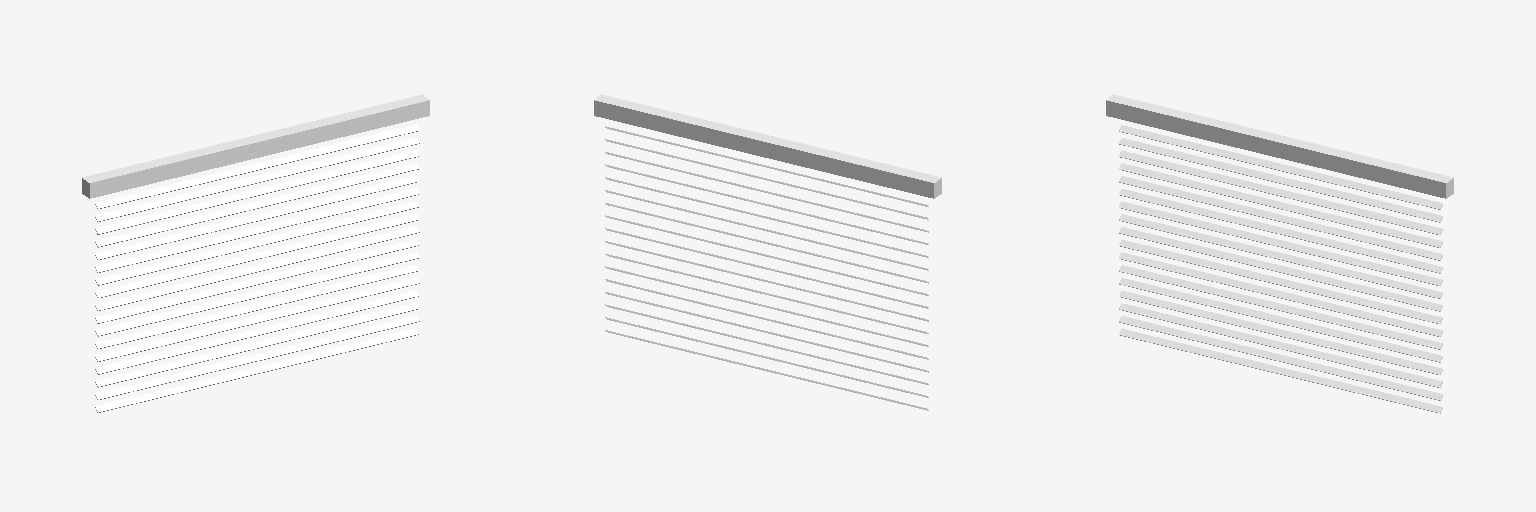
Rendered from tapparella2.obj.
The picture shows the model from 3 angles: view 1: azimuth 30°, elevation 25°; view 2: azimuth 150°, elevation 25°; view 3: azimuth 330°, elevation 25°; orthographic projection.
Visible parts, largest first — view 1: tapparella_sala.5; view 2: tapparella_sala.5; view 3: tapparella_sala.5.
Part boxes in pixels (x1,y1,x2,y2): tapparella_sala.5: (82,94,429,412); tapparella_sala.5: (594,94,941,410); tapparella_sala.5: (1106,94,1453,413).
Size of the model in its own units: 243 by 160 by 9.65.